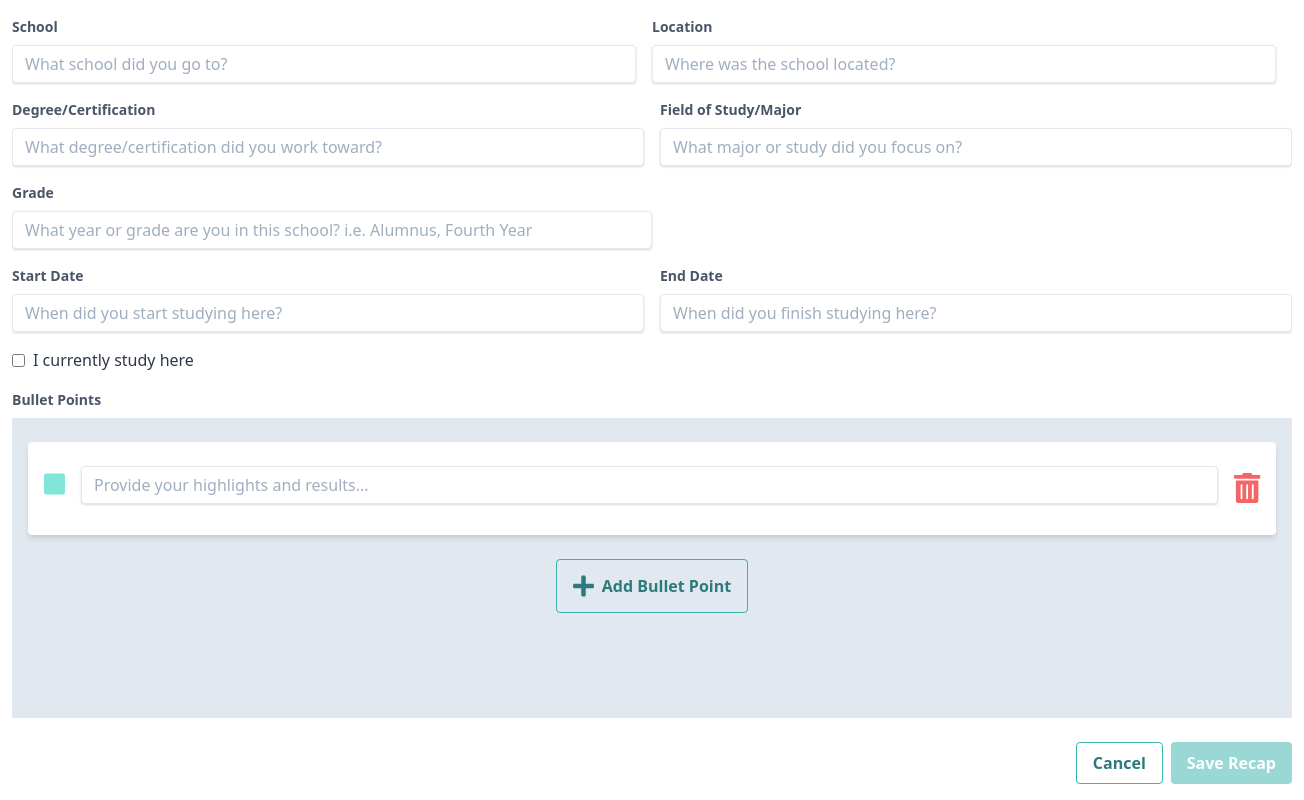
Test: <EducationForm /> › should hide end date if current work is checked
What coordinates should you click on to do the following:
click the checkbox labelled "I currently study here"
I would click on:
 (18, 360)
Its box is [12,354,25,366].
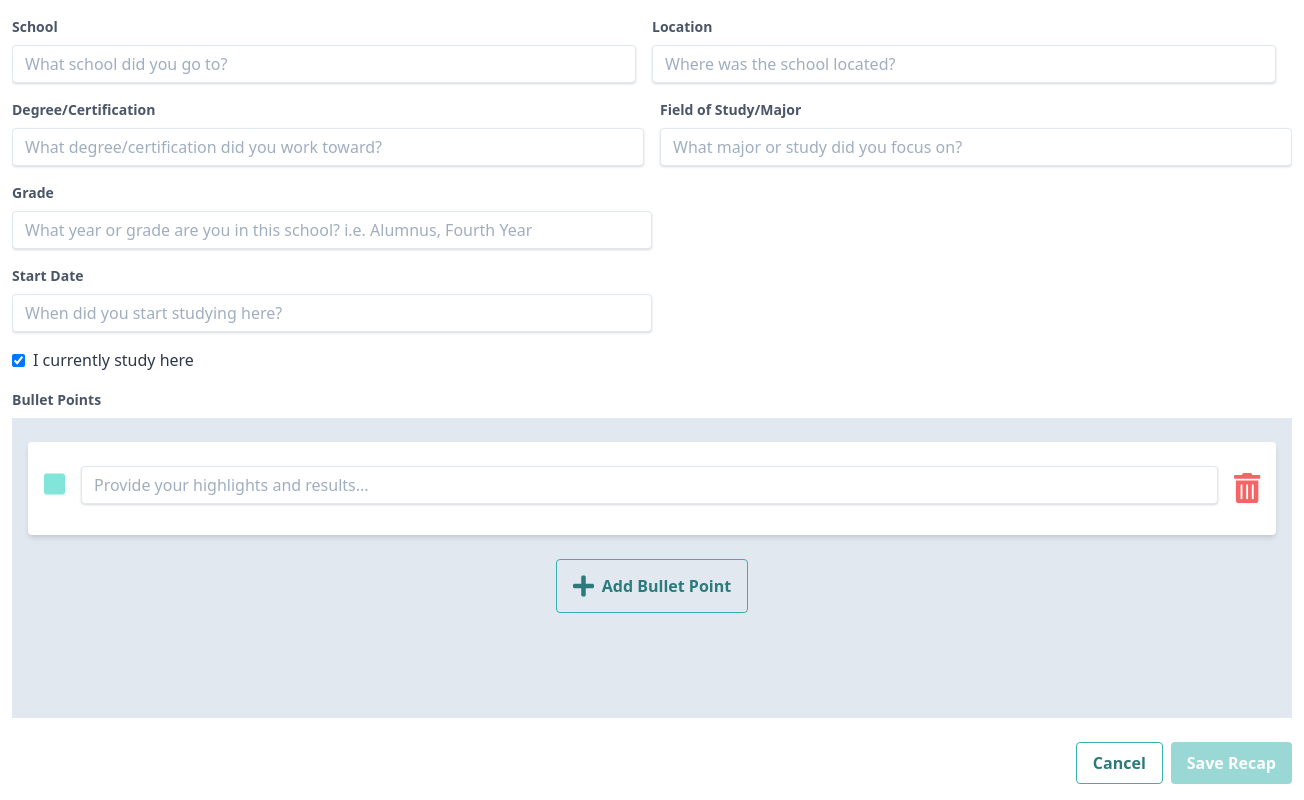
Expected: the field labelled "Start Date" is shown, [12,294,652,332]
Result: the checkbox labelled "I currently study here" is checked at [12,354,25,366]
Result: the label labelled "End Date" is gone
